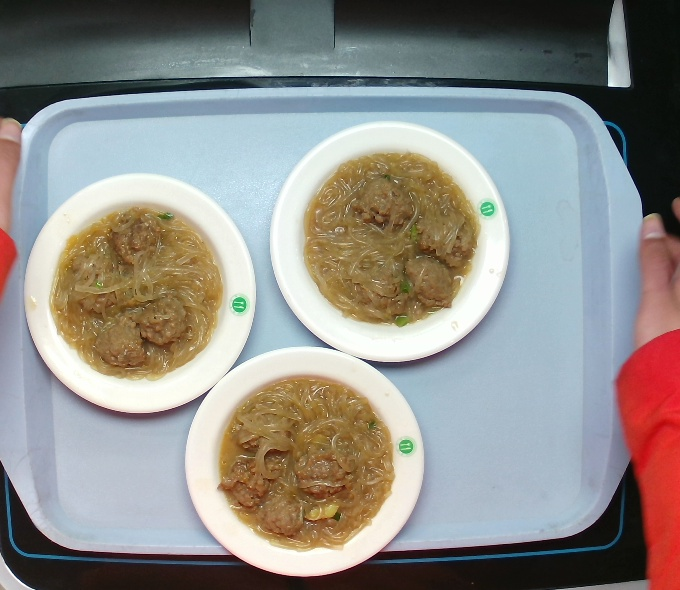wcq-FenSiNiuRouWan: (202, 365, 408, 554), (298, 145, 492, 329), (50, 193, 224, 392)
